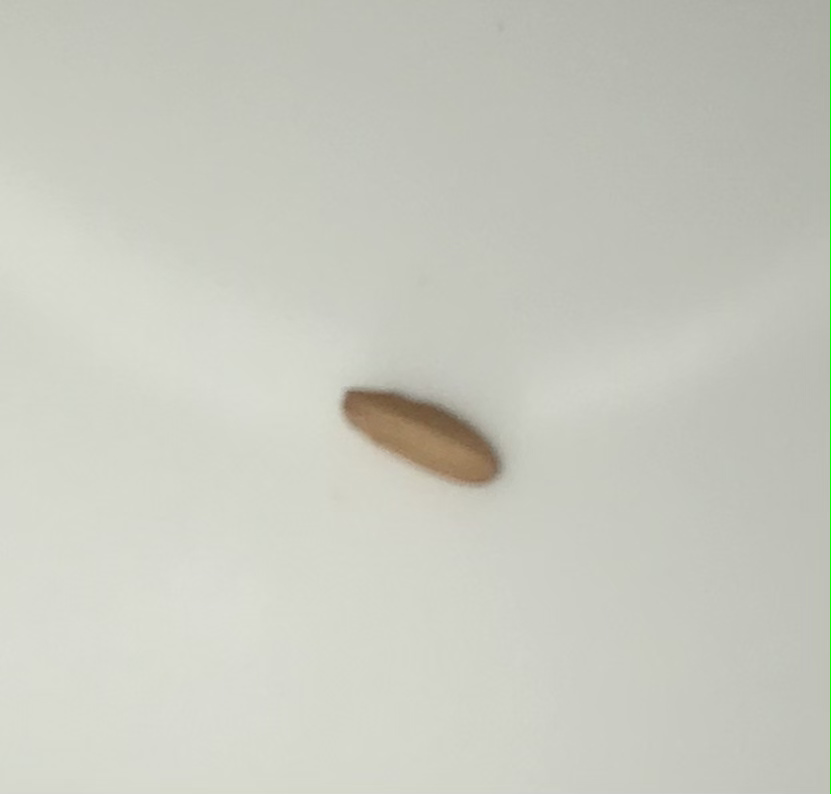Gao Lut Dien Bien: (331, 369, 506, 493)
